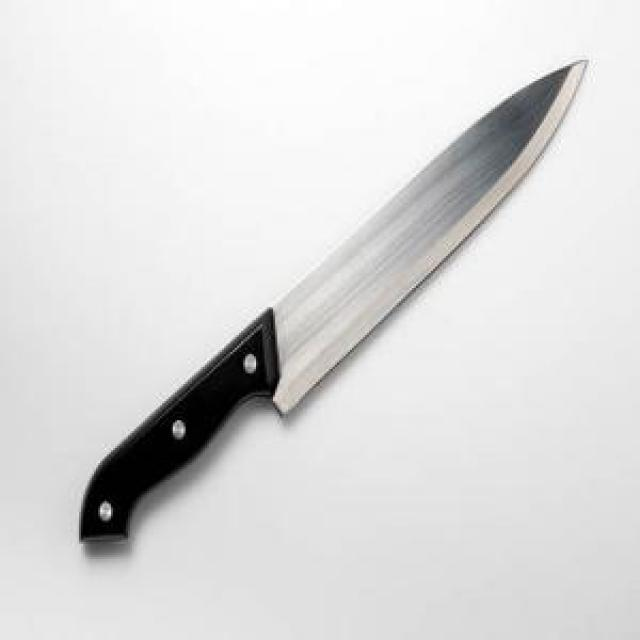knife: (77, 58, 589, 560)
